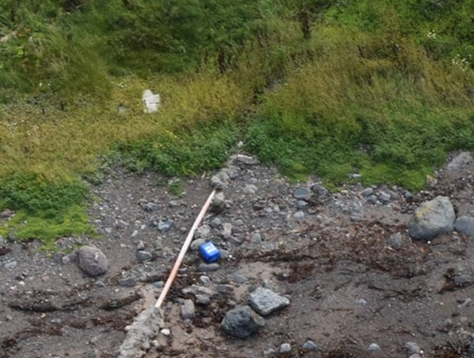straight_bar: (178, 187, 215, 259), (149, 258, 180, 311)
white_in_green: (122, 72, 185, 132), (183, 226, 236, 276)
